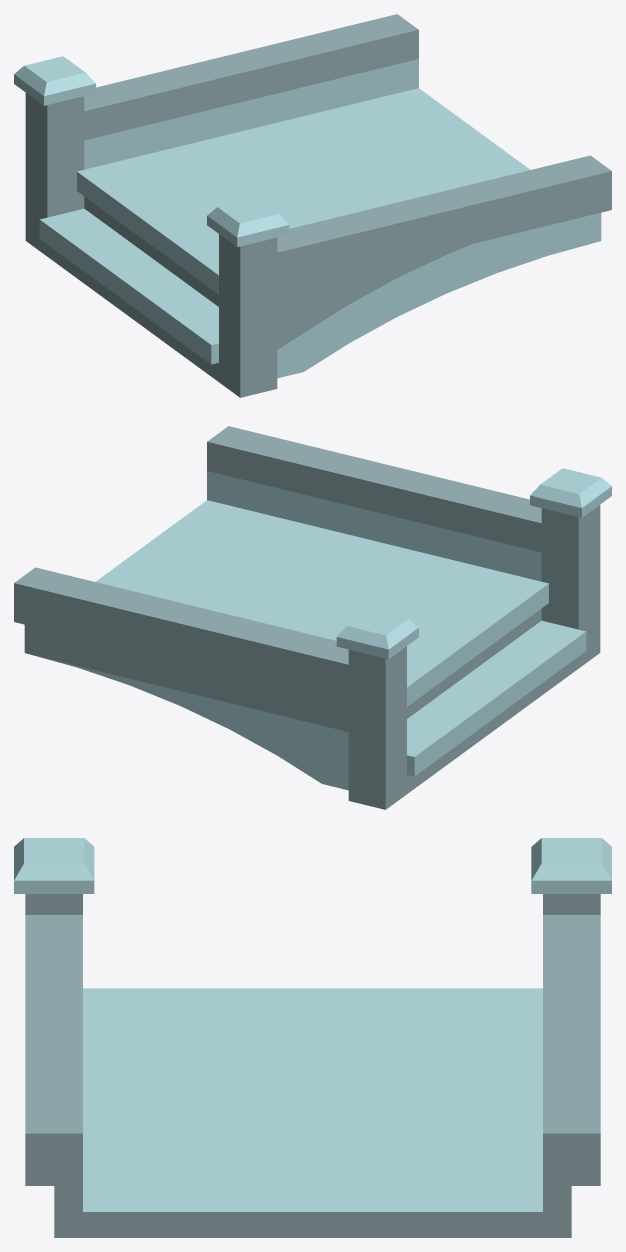
3 renders of one model, top to bottom at view 1: azimuth 30°, elevation 25°; view 2: azimuth 150°, elevation 25°; view 3: azimuth 270°, elevation 25°, orthographic. The views are drawn at different scales.
Parts seen in each view (by area): view 1: bridge_side_stoneRound; view 2: bridge_side_stoneRound; view 3: bridge_side_stoneRound.
Part boxes in pixels (x1,y1,x2,y2): bridge_side_stoneRound: (14,14,611,397); bridge_side_stoneRound: (14,426,611,809); bridge_side_stoneRound: (14,838,611,1237).
Bounding box in the file's own units: 1.02 × 0.45 × 1.04.
